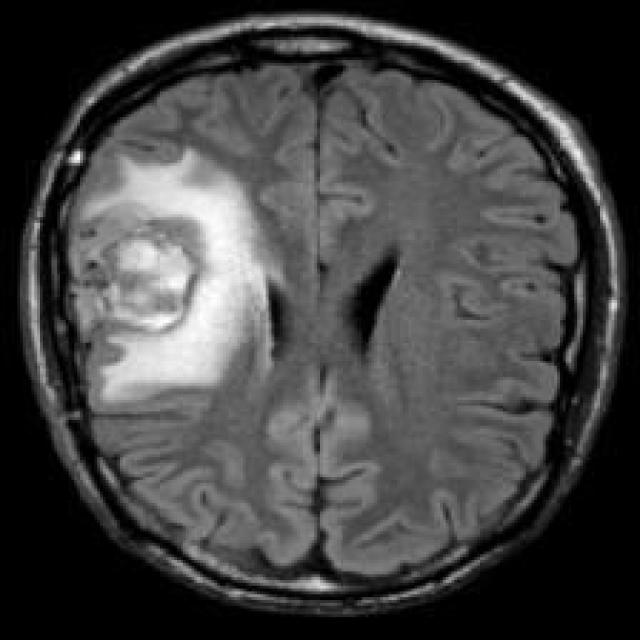Tumor: (74, 146, 266, 411)
